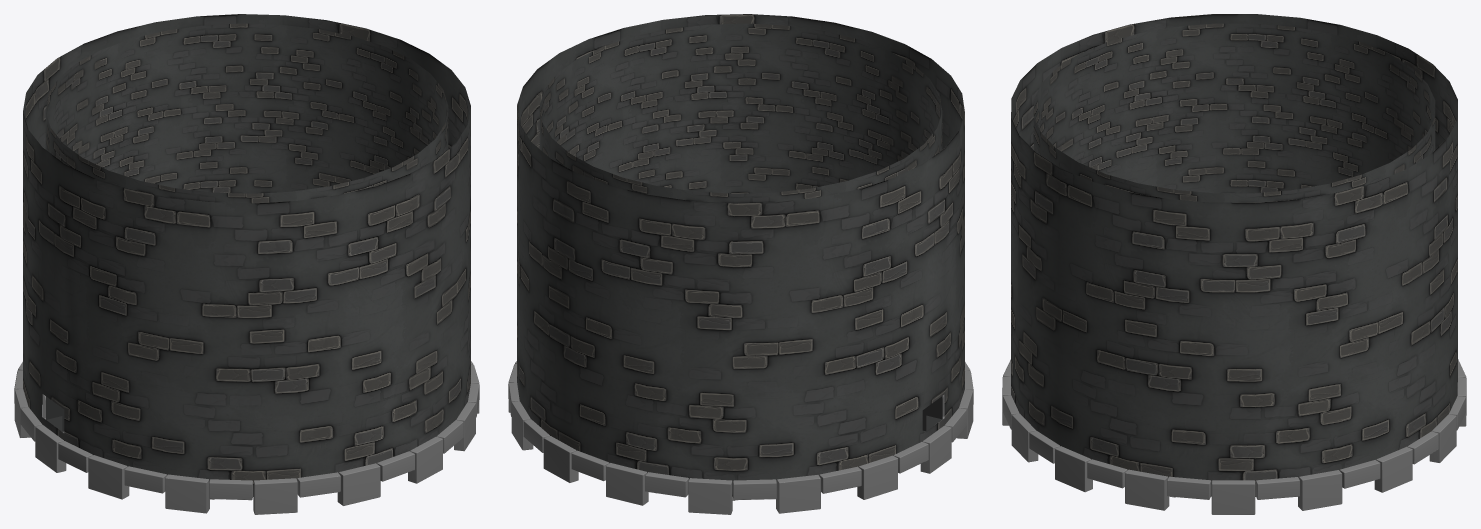
Rendered from Tower_Wall.fbx.
3 renders of one model, left to right at view 1: azimuth 30°, elevation 25°; view 2: azimuth 150°, elevation 25°; view 3: azimuth 270°, elevation 25°, orthographic.
Parts seen in each view (by area): view 1: SM_Tower_Mid_LOD0; view 2: SM_Tower_Mid_LOD0; view 3: SM_Tower_Mid_LOD0.
Boxes of the visible parts, left/top/right/bottom form: SM_Tower_Mid_LOD0: left=14, top=14, right=479, bottom=514; SM_Tower_Mid_LOD0: left=508, top=14, right=973, bottom=514; SM_Tower_Mid_LOD0: left=1002, top=14, right=1466, bottom=514.
Size of what is drawn, in the model's own units: 1418 by 1041 by 1418.
